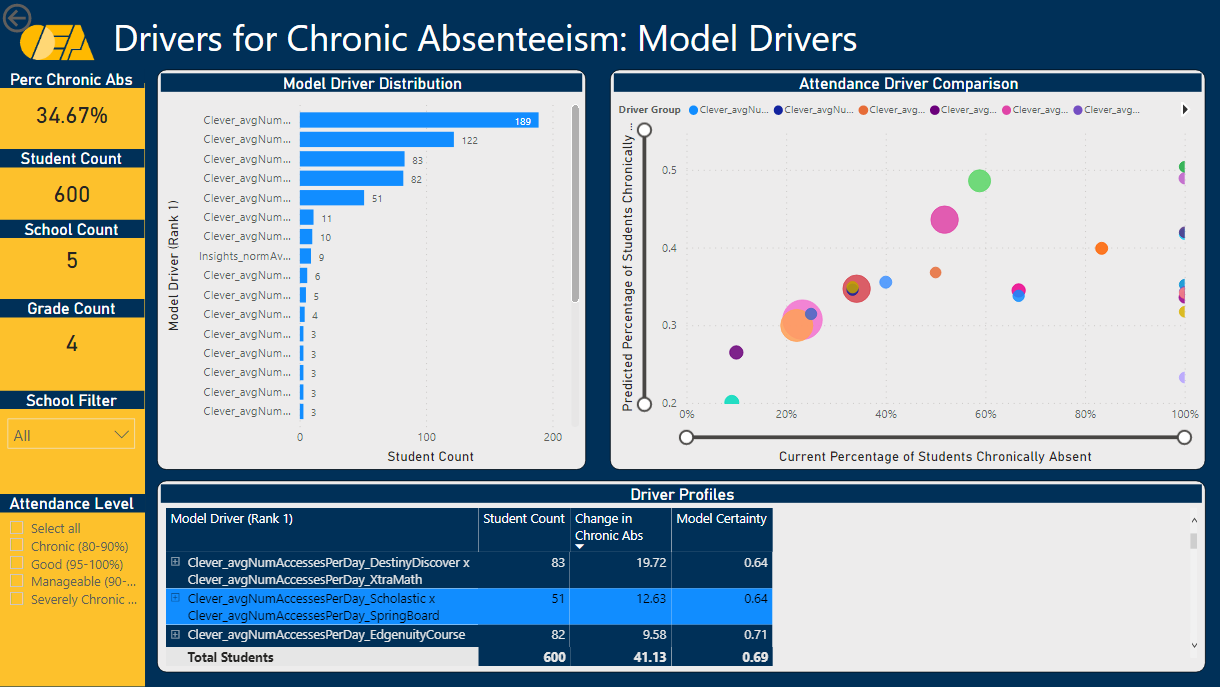

Layout of this report page (visuals, bound fields, positions):
{"tool":"powerbi","page":{"name":"Chronic Absenteeism Drivers","canvas":[1280,720],"ordinal":2},"visuals":[{"type":"shape","box":[0,88.3,154.3,631.7],"z":0},{"type":"card","title":"Student Count","fields":{"Values":["StudentModel_pseudo.StudentId_external_pseudonym"]},"box":[0,157.2,153.4,73.8],"z":1000},{"type":"slicer","title":"School Filter","fields":{"Values":["StudentModel_pseudo.SchoolName"]},"box":[0,409,153.4,83.3],"z":2000},{"type":"card","title":"Grade Count","fields":{"Values":["StudentModel_pseudo.StudentGrade"]},"box":[0,314.3,153.4,72],"z":4000},{"type":"card","title":"School Count","fields":{"Values":["StudentModel_pseudo.SchoolName"]},"box":[0,231,153.4,62.5],"z":5000},{"type":"image","box":[9.4,13.6,105.3,60.5],"z":6000},{"type":"textbox","box":[105.1,9.4,828.2,69],"z":7000},{"type":"scatterChart","title":"Attendance Driver Comparison","fields":{"Series":["ModelResults_pseudo.feature1"],"Size":["ModelResults_pseudo.StudentId_external_pseudonym"],"Y":["ModelResults_pseudo.absentee_probability"],"X":["StudentModel_pseudo.Chronic Absence Percentage"]},"box":[640,73.7,622.7,418.8],"z":14000},{"type":"pivotTable","title":"Driver Profiles","fields":{"Rows":["ModelResults_pseudo.feature1","StudentModel_pseudo.StudentGrade"],"Values":["ModelResults_pseudo.StudentId_external_pseudonym","ModelResults_pseudo.feature1_interpret_val","ModelResults_pseudo.predicted_score"]},"box":[166.3,503.5,1096.5,200.8],"z":16000},{"type":"card","title":"Perc Chronic Abs","fields":{"Values":["StudentModel_pseudo.Chronic Absence Percentage"]},"box":[0,73.8,153.4,73.8],"z":17000},{"type":"clusteredBarChart","title":"Model Driver Distribution","fields":{"Y":["ModelResults_pseudo.StudentId_external_pseudonym"],"Category":["ModelResults_pseudo.feature1"]},"box":[166.3,73.7,448.6,418.8],"z":18000},{"type":"actionButton","box":[0,0,100,40],"z":19000},{"type":"slicer","title":"Attendance Level","fields":{"Values":["StudentModel_pseudo.InPerson_percentDaysAttended (Abs-Level groups)"]},"box":[0,517.6,153.7,141.2],"z":20000}]}

Visuals, with their boxes in screenshot pixels (x1, y1, x2, y2), scaled from the page's 1280x720 canvas onto the 1220x687 screenshot:
shape: box=[0, 84, 147, 686]
"Student Count" card: box=[0, 150, 146, 220]
"School Filter" slicer: box=[0, 390, 146, 470]
"Grade Count" card: box=[0, 300, 146, 369]
"School Count" card: box=[0, 220, 146, 280]
image: box=[9, 13, 109, 71]
textbox: box=[100, 9, 890, 75]
"Attendance Driver Comparison" scatterChart: box=[610, 70, 1204, 470]
"Driver Profiles" pivotTable: box=[159, 480, 1204, 672]
"Perc Chronic Abs" card: box=[0, 70, 146, 141]
"Model Driver Distribution" clusteredBarChart: box=[159, 70, 586, 470]
actionButton: box=[0, 0, 95, 38]
"Attendance Level" slicer: box=[0, 494, 146, 629]
